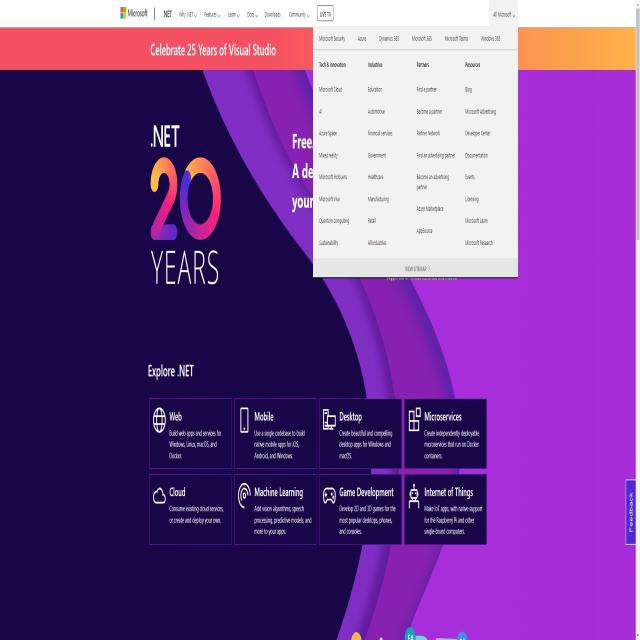menu-bar: (158, 2, 340, 22)
tab-bar: (314, 23, 512, 45)
